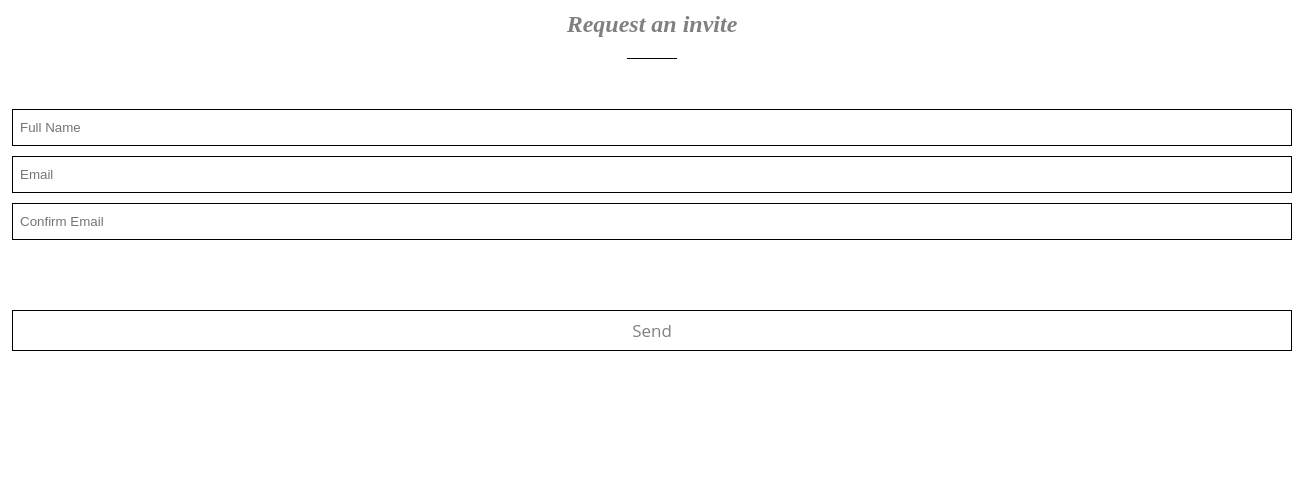
it: RequestInviteForm › shows error message when email is entered but not a valid email address
Type "wrong-email" into the field with placeholder "Email".
click(652, 174); type("wrong-email")  # box [12, 156, 1292, 193]
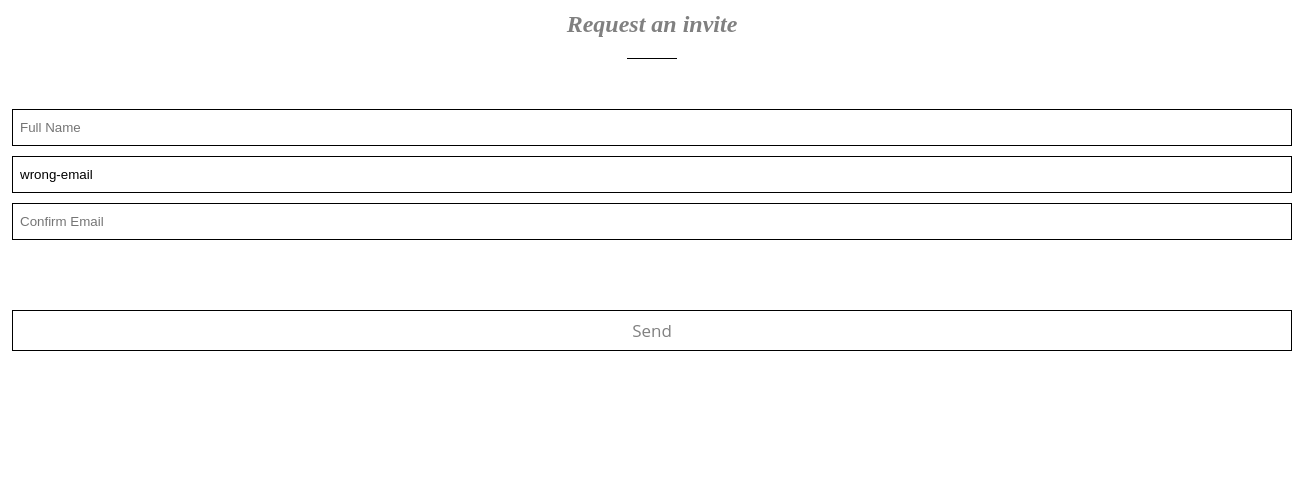
Click the button with test id "submit-button".
click(652, 330)  # box [12, 310, 1292, 351]
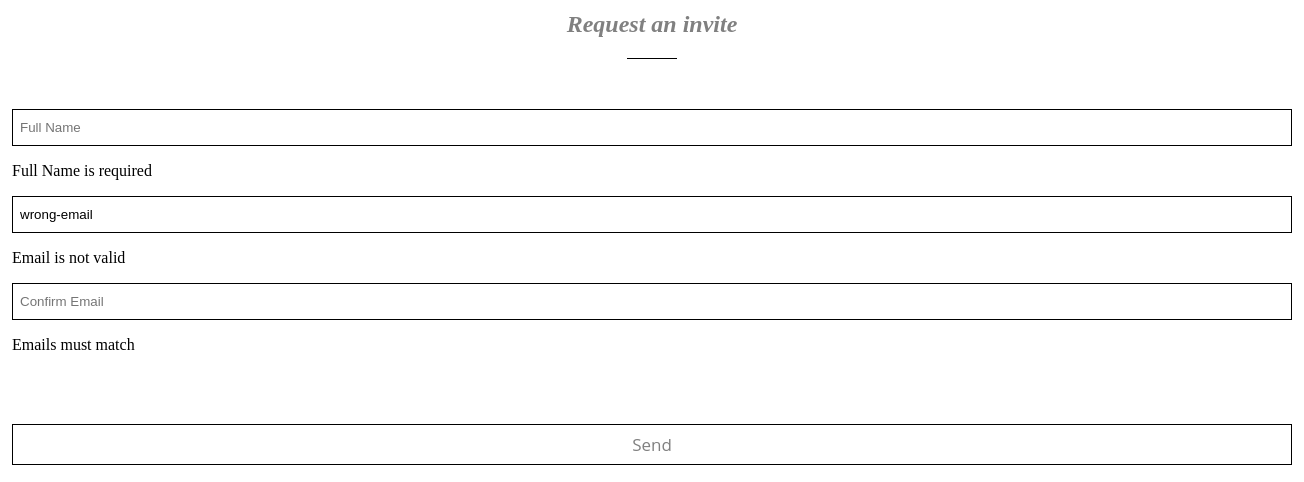
Expected: the text "Email is not valid" is shown, [12, 249, 125, 266]
